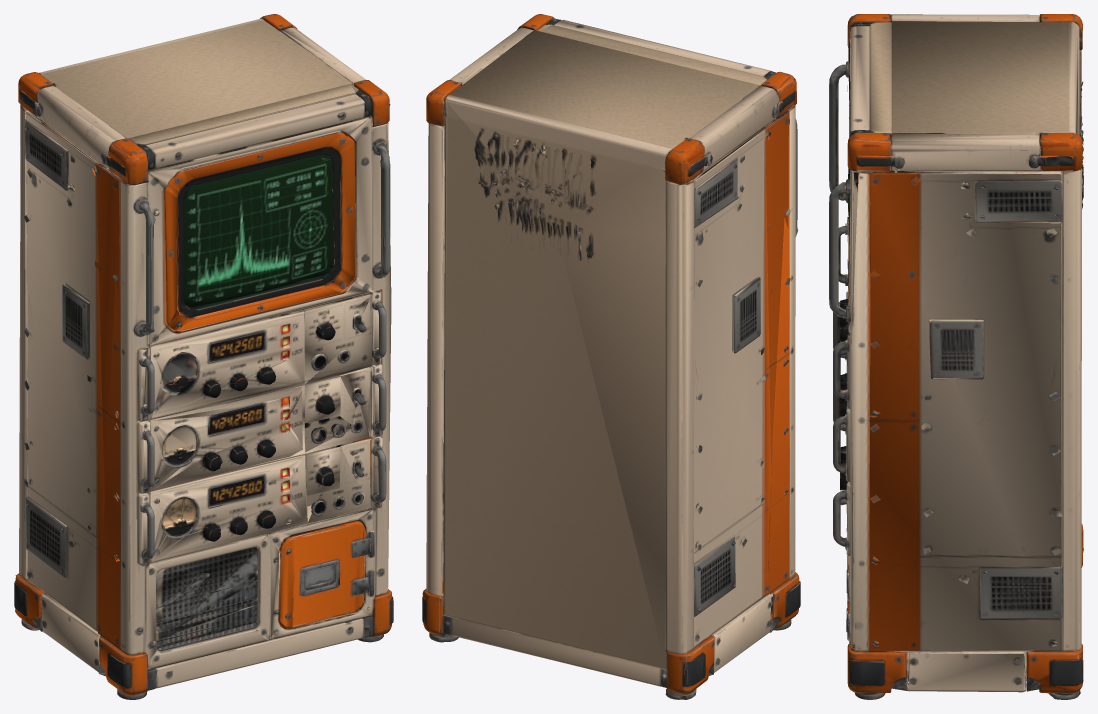
File: CommsRack_T25.glb
3 views of the same model, side by side, from view 1: azimuth 30°, elevation 25°; view 2: azimuth 150°, elevation 25°; view 3: azimuth 270°, elevation 25° (orthographic). The views are drawn at different scales.
Size of the model in its own units: 0.4971 by 0.9507 by 0.3926.
1 material, 1 textured.
